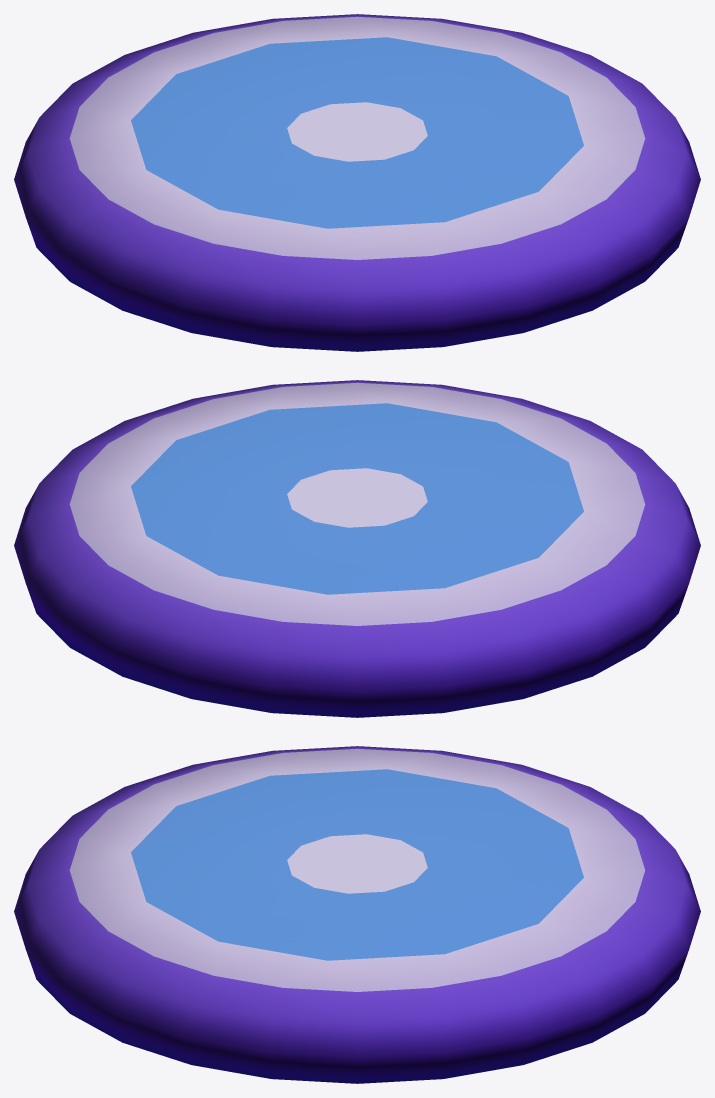
The model's file is frisbee.fbx.
3 renders of one model, top to bottom at view 1: azimuth 30°, elevation 25°; view 2: azimuth 150°, elevation 25°; view 3: azimuth 270°, elevation 25°, orthographic.
Parts seen in each view (by area): view 1: frisbee; view 2: frisbee; view 3: frisbee.
Part boxes in pixels (x1=…): frisbee: x1=14, y1=14, x2=700, y2=351; frisbee: x1=14, y1=380, x2=700, y2=717; frisbee: x1=14, y1=746, x2=700, y2=1083.
Bounding box in the file's own units: 20.36 × 2.6 × 20.36.
